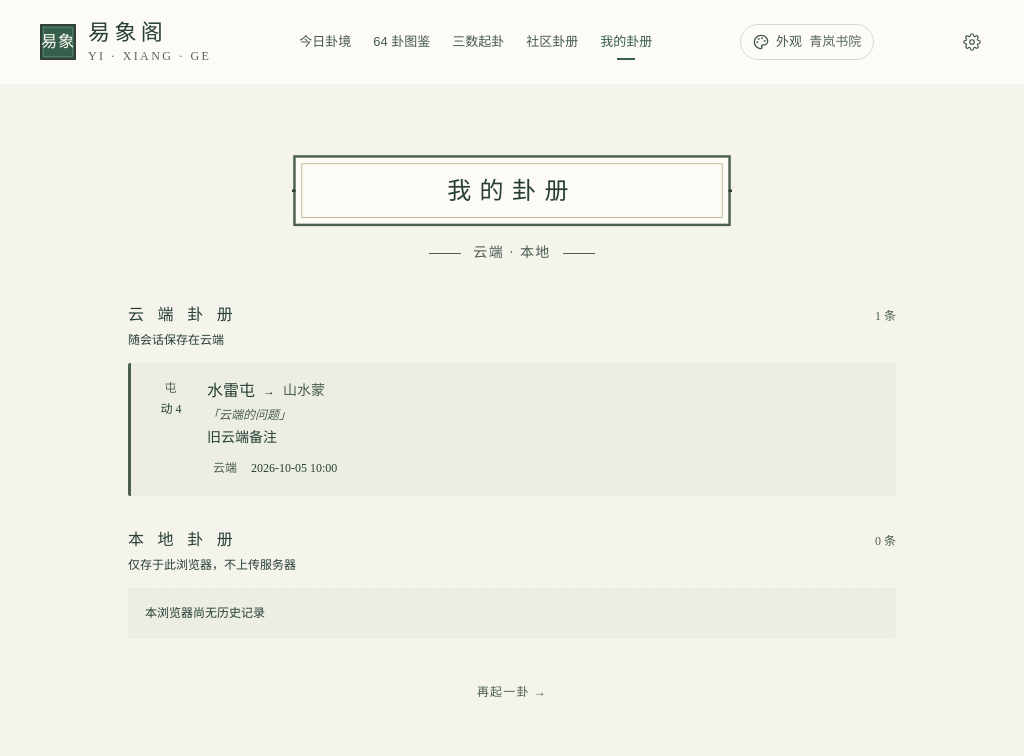
Test: Records page › surfaces a cloud note-save failure without losing the page
Click the button "水雷屯" at (231, 390), box left=128, top=362, right=896, bottom=496
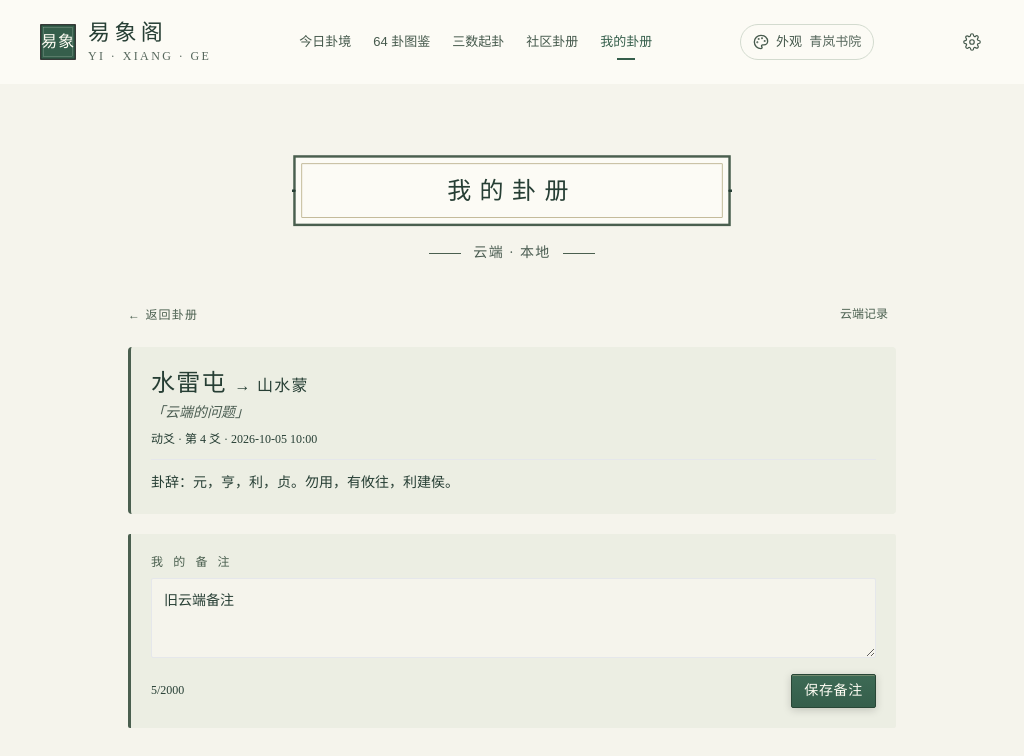
Replace the text in the text box labelled "我 的 备 注" with "x" at (514, 618), box left=151, top=578, right=876, bottom=658
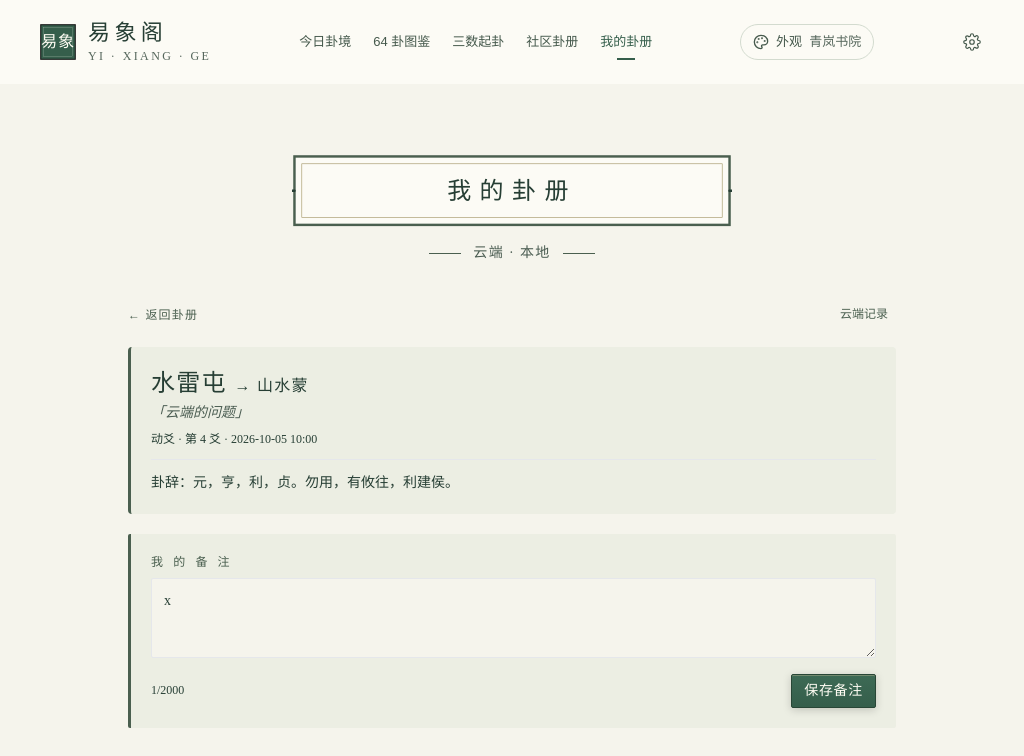
Click the button "保存备注" at (834, 691), box left=791, top=674, right=876, bottom=708
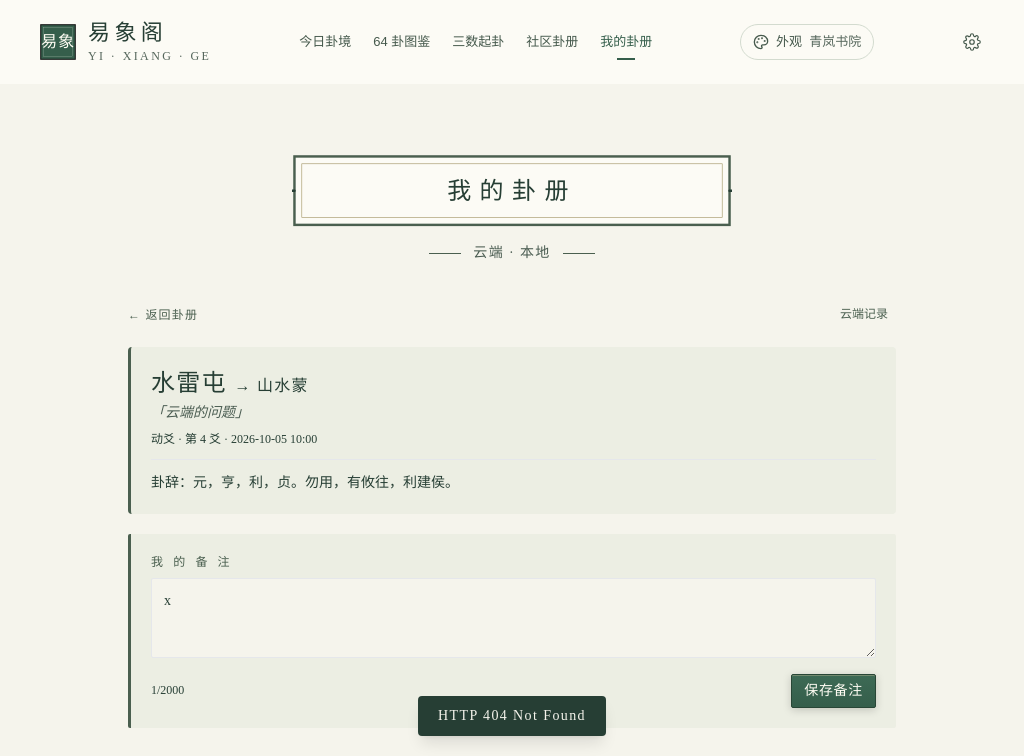
Now the button "← 返回卦册" is shown, box left=128, top=307, right=198, bottom=323
Now the text "HTTP 404 Not Found" is shown, box left=418, top=696, right=606, bottom=736
